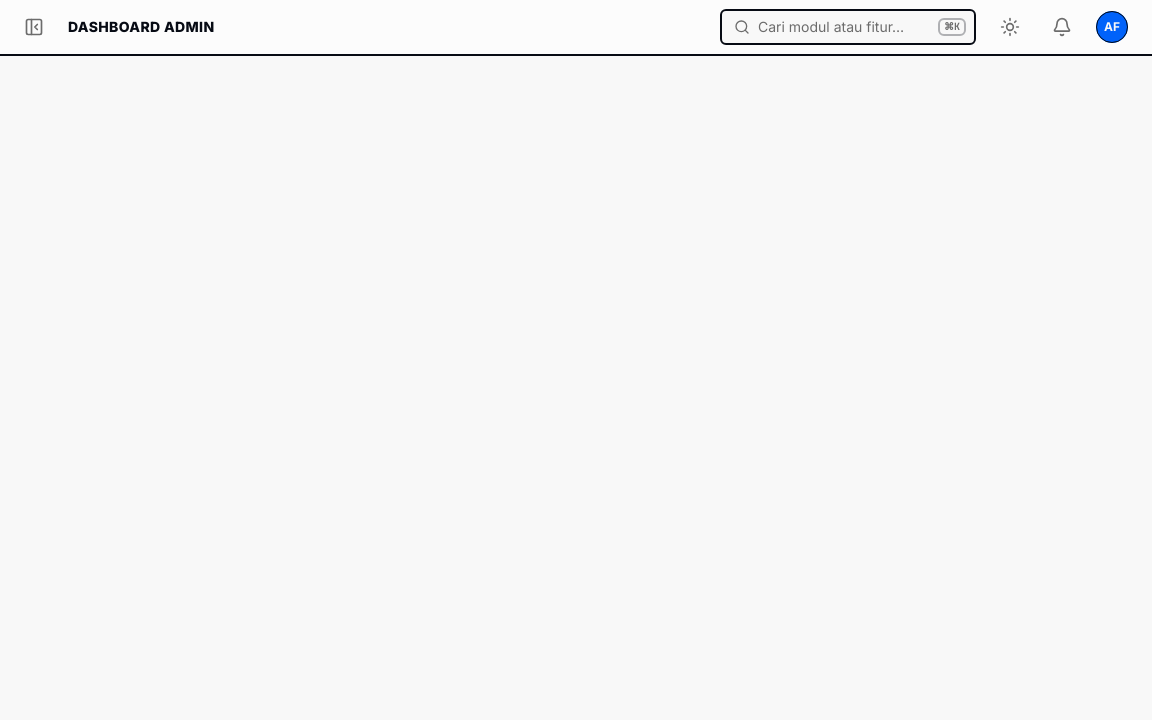
Test case: DashboardHeader › opens the command palette dialog when Ctrl+K search button is clicked
The width and height of the screenshot is (1152, 720).
Click the button "Cari modul atau fitur… ⌘K": x=848, y=27 left=720, top=9, right=976, bottom=45
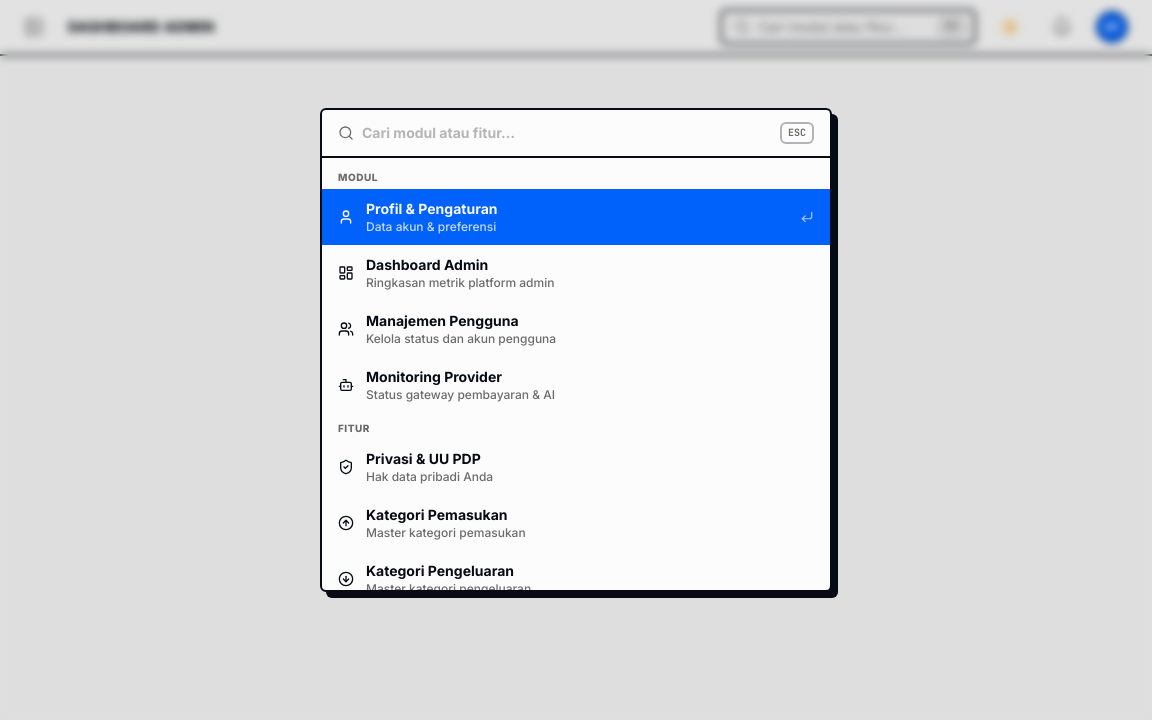
Result: the dialog is shown at left=320, top=108, right=832, bottom=592
